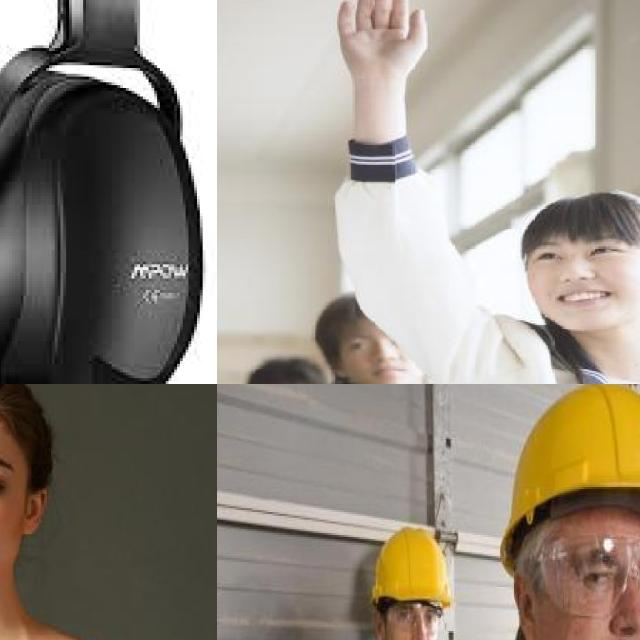Ear-protection: (0, 56, 211, 384)
No_Ear-Protection: (509, 574, 541, 640), (17, 477, 49, 541)
No_Glasses: (517, 238, 636, 273)
face_nomask: (528, 223, 640, 329), (560, 537, 640, 640), (389, 604, 440, 640)
glasses: (534, 527, 640, 630), (385, 602, 448, 638)
hand_noglove: (332, 0, 432, 91)
head_helmet: (498, 384, 640, 548), (366, 526, 453, 610)
head_nohelmet: (504, 182, 640, 248), (0, 384, 50, 442)
person: (326, 0, 640, 384), (0, 384, 203, 640), (448, 384, 640, 640), (303, 520, 514, 640)
